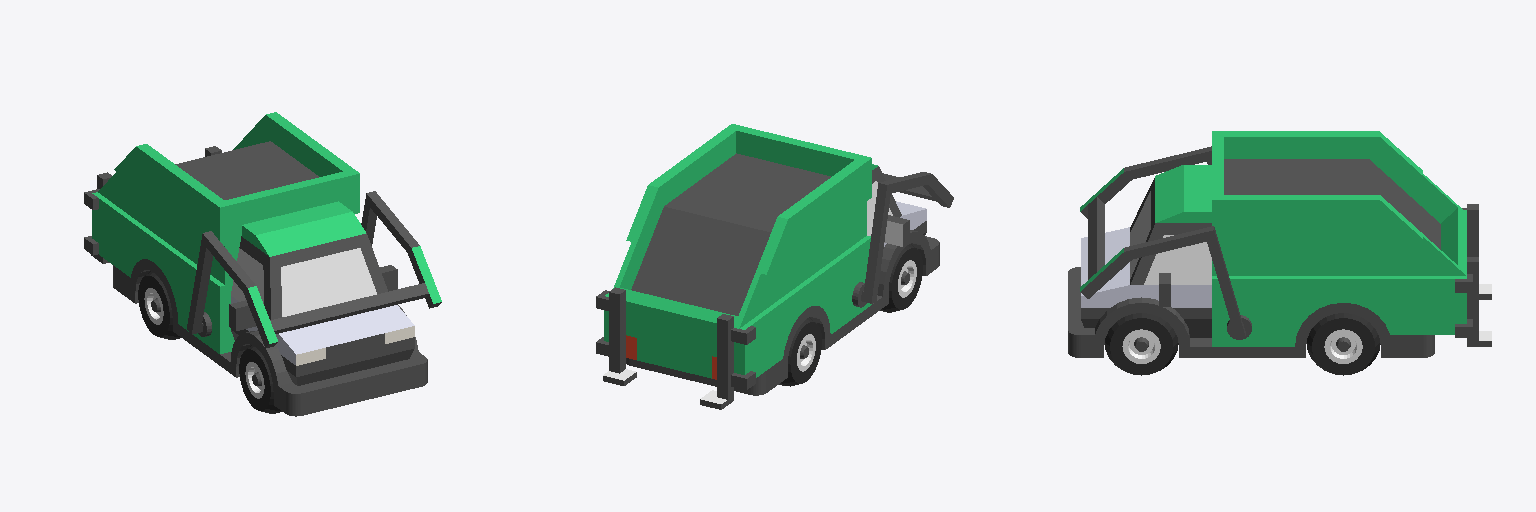
Rendered from garbageTruck.obj.
The picture shows the model from 3 angles: view 1: azimuth 30°, elevation 25°; view 2: azimuth 150°, elevation 25°; view 3: azimuth 270°, elevation 25°; orthographic projection.
Parts seen in each view (by area): view 1: body, arm, wheel_backRight, wheel_frontRight; view 2: body, arm, wheel_backRight, wheel_frontRight; view 3: body, arm, wheel_frontLeft, wheel_backLeft.
Part boxes in pixels (bbox=[...]): body: bbox=[84, 112, 427, 416]; arm: bbox=[187, 191, 441, 348]; wheel_backRight: bbox=[138, 271, 180, 339]; wheel_frontRight: bbox=[239, 345, 281, 413]; body: bbox=[596, 124, 939, 409]; arm: bbox=[852, 172, 953, 307]; wheel_backRight: bbox=[779, 317, 821, 386]; wheel_frontRight: bbox=[880, 244, 922, 312]; body: bbox=[1068, 131, 1491, 357]; arm: bbox=[1080, 146, 1251, 339]; wheel_frontLeft: bbox=[1105, 313, 1178, 375]; wheel_backLeft: bbox=[1307, 313, 1380, 375].
Bounding box in the file's own units: 62.99 × 62.99 × 134.